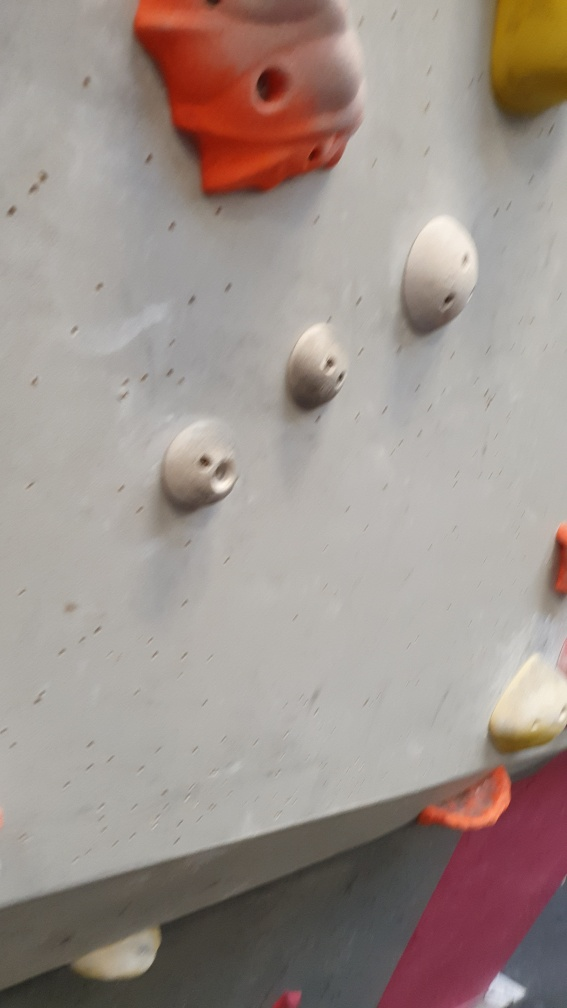Jug: (123, 1, 372, 201), (413, 767, 519, 836)
Sloper: (398, 213, 483, 336), (161, 415, 242, 519), (283, 318, 349, 412)
